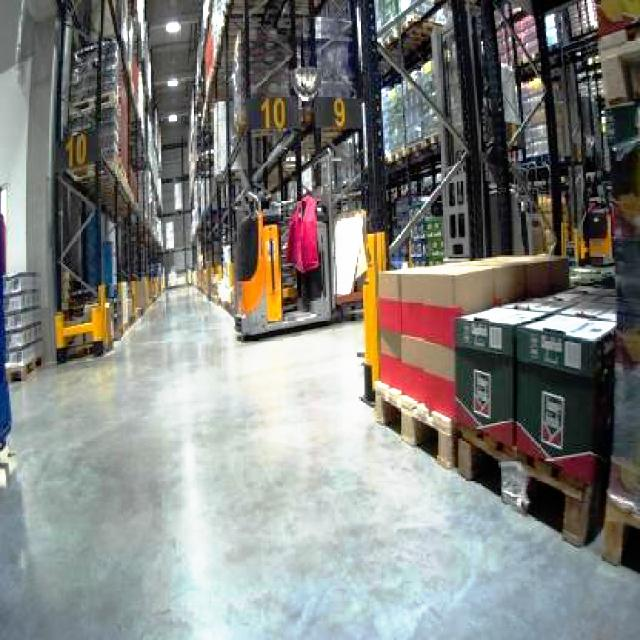ground: (0, 277, 638, 638)
pallet: (358, 0, 638, 634), (368, 248, 618, 548), (51, 0, 166, 362), (452, 420, 598, 546), (52, 268, 166, 362), (0, 269, 45, 380), (52, 282, 112, 362)
